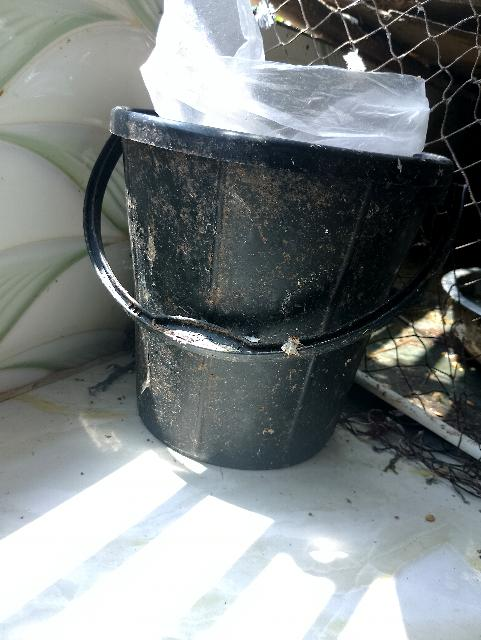hardplastic: (86, 102, 457, 491)
